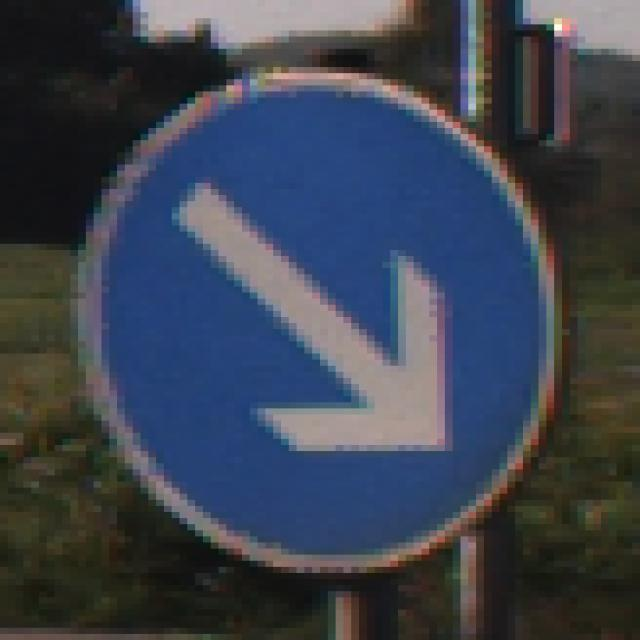compulsary keep right: (60, 73, 551, 566)
